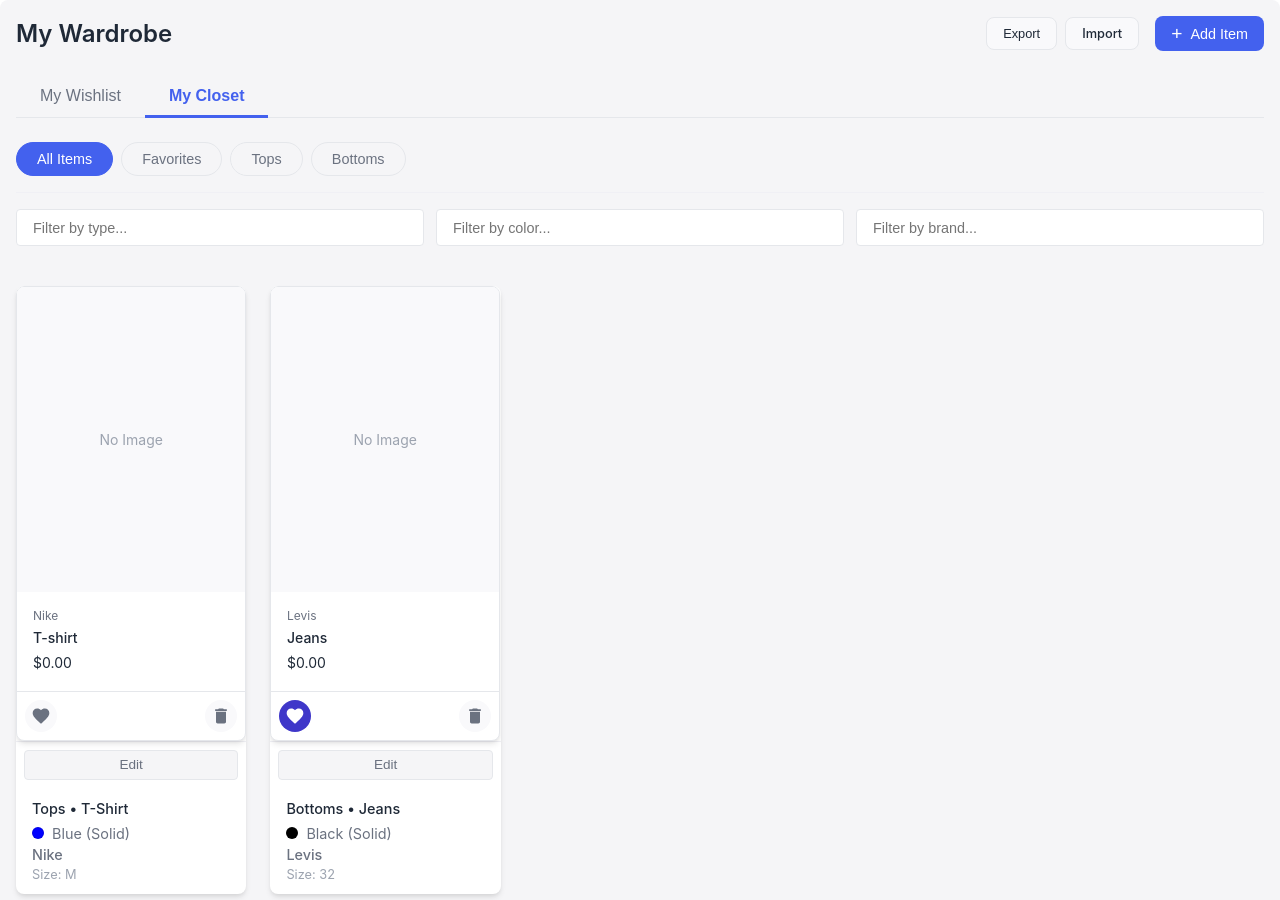
Test: MyCloset (Fashion-ai-specs.md compliance) › '+' button opens add flow
Click the button "Add Item" at (1210, 34), box [1155,16,1264,51]
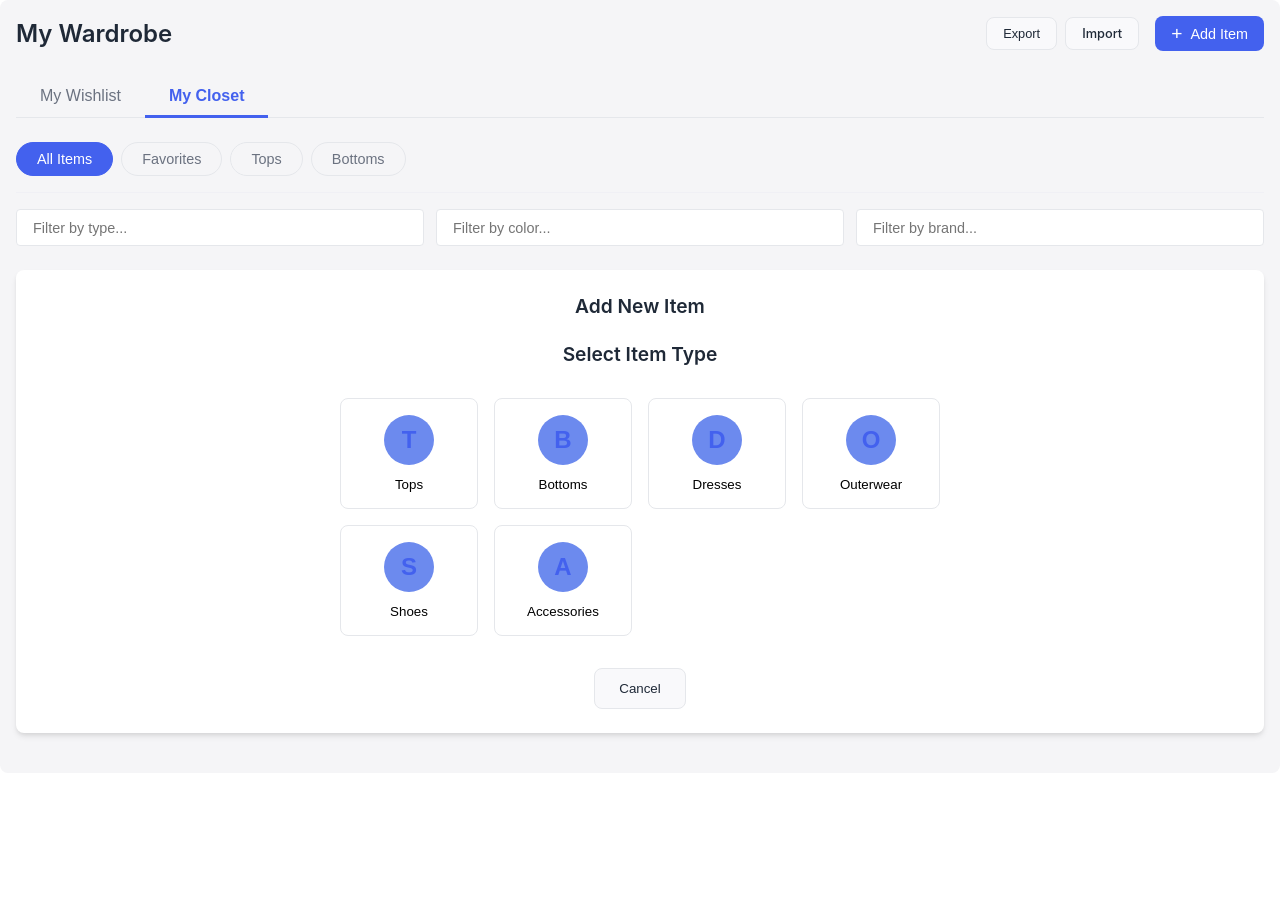
Check: the heading "Select Item Type" is shown, box [563,342,717,366]
